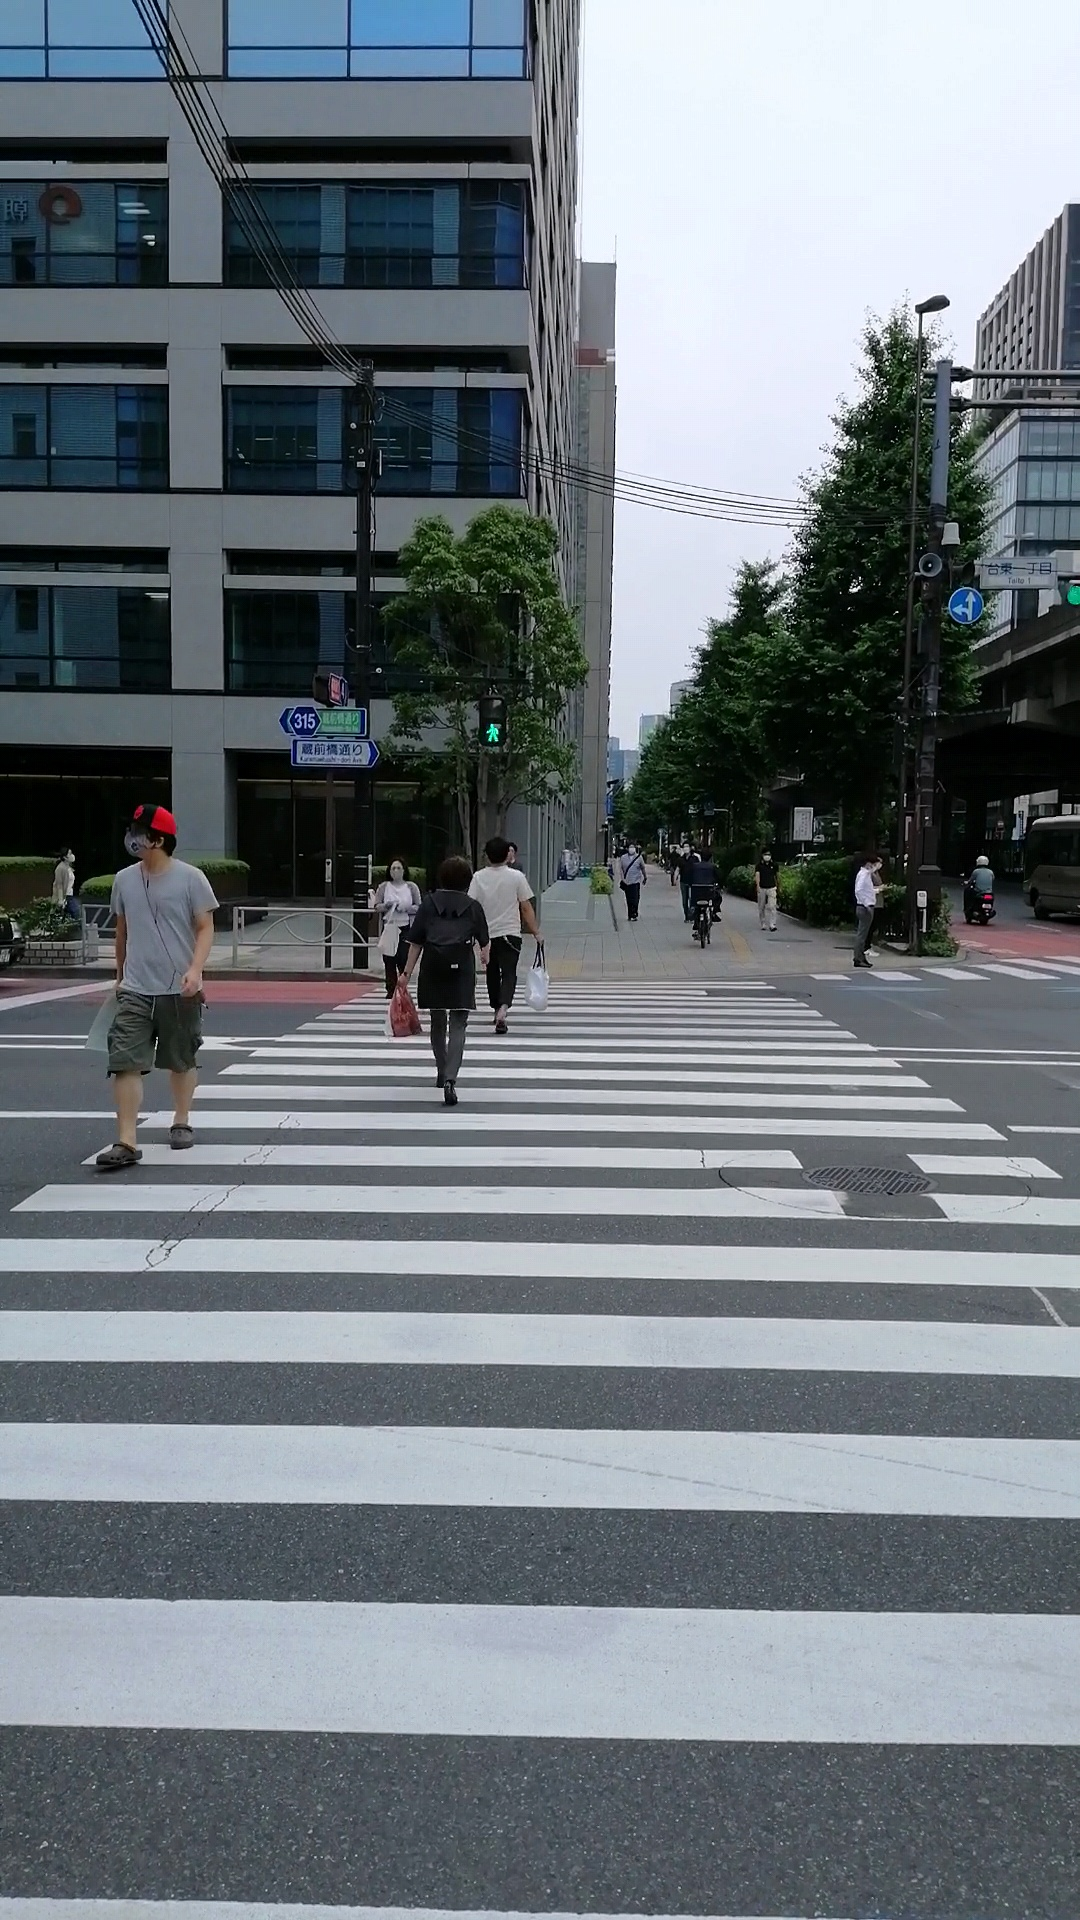green: (477, 694, 506, 746)
